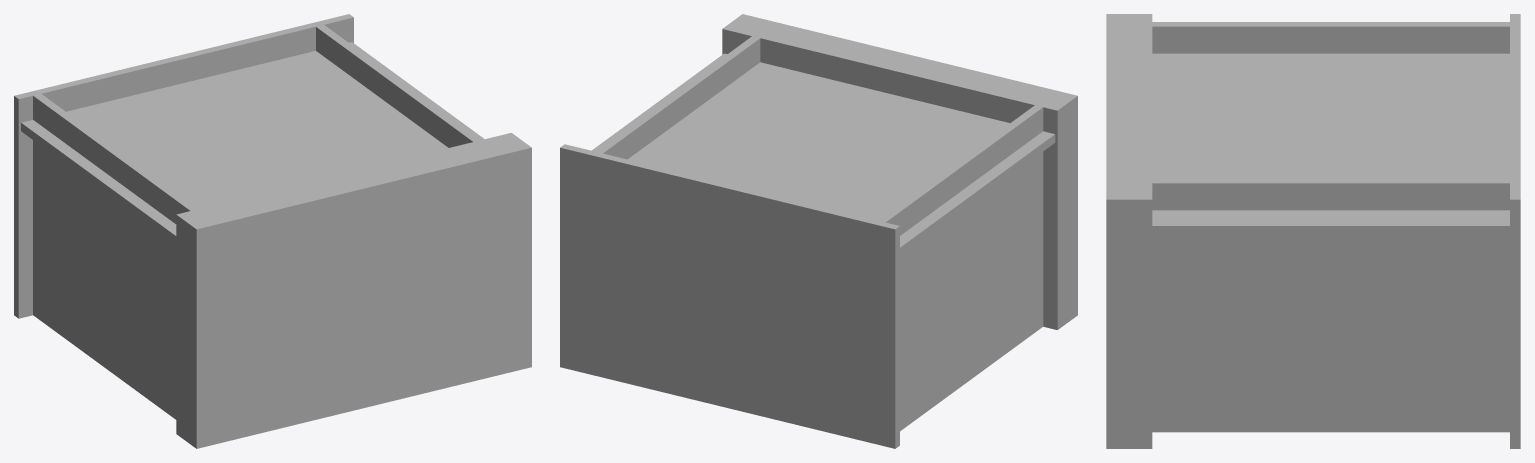
File: Wall_front.glb
The picture shows the model from 3 angles, left to right: view 1: azimuth 30°, elevation 25°; view 2: azimuth 150°, elevation 25°; view 3: azimuth 270°, elevation 25°; orthographic projection. The views are drawn at different scales.
Parts seen in each view (by area): view 1: WallsSeperated.003, WallsSeperated.004, WallsSeperated.002, WallsSeperated.001, WallsSeperated; view 2: WallsSeperated.001, WallsSeperated.004, WallsSeperated.002, WallsSeperated.003, WallsSeperated; view 3: WallsSeperated, WallsSeperated.004, WallsSeperated.003, WallsSeperated.002, WallsSeperated.001.
Part boxes in pixels (x1,y1,x2,y2): WallsSeperated.003: (176, 133, 531, 448); WallsSeperated.004: (21, 42, 484, 244); WallsSeperated.002: (32, 92, 198, 419); WallsSeperated.001: (14, 14, 353, 318); WallsSeperated: (314, 23, 480, 147); WallsSeperated.001: (560, 144, 899, 448); WallsSeperated.004: (592, 53, 1055, 255); WallsSeperated.002: (877, 105, 1043, 431); WallsSeperated.003: (722, 14, 1077, 329); WallsSeperated: (595, 36, 760, 159); WallsSeperated: (1152, 178, 1513, 432); WallsSeperated.004: (1152, 53, 1509, 235); WallsSeperated.003: (1106, 14, 1152, 448); WallsSeperated.002: (1152, 22, 1510, 53); WallsSeperated.001: (1510, 14, 1520, 448).
Size of the model in its own units: 12.15 by 7.6 by 11.46.
Materials: 1 (1 with a texture image).
